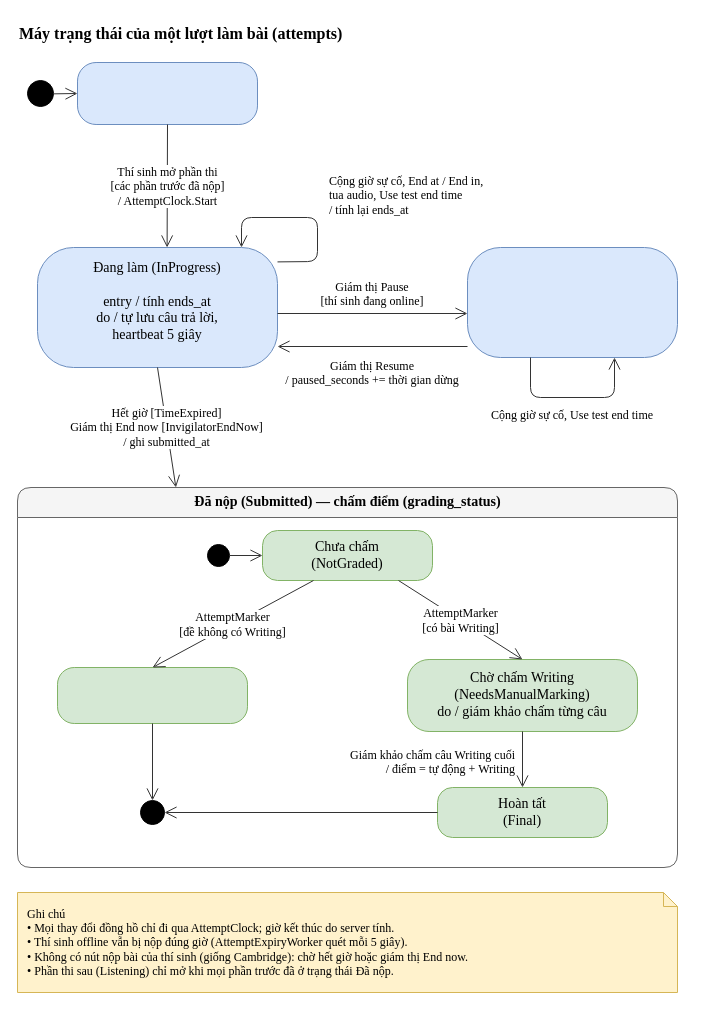
Some shapes in this 705 by 1010 pixel diagram are drawn without their labels. Each missing label, with the centre of its shape:
"Chưa bắt đầu (NotStarted)" goes at (x=167, y=93).
"Tạm dừng (Paused) entry / ghi paused_at do / đồng hồ đứng yên" goes at (x=572, y=302).
"Đã chấm tự động (AutoGraded)" goes at (x=152, y=695).
